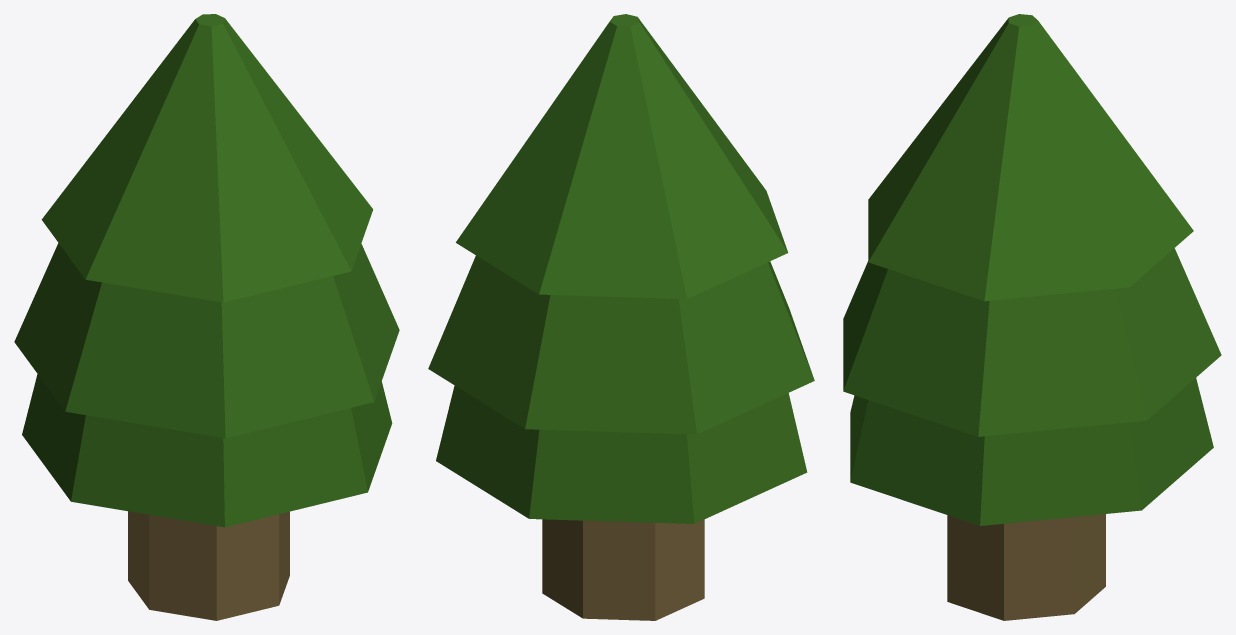
File: tree2.fbx
3 renders of one model, left to right at view 1: azimuth 30°, elevation 25°; view 2: azimuth 150°, elevation 25°; view 3: azimuth 270°, elevation 25°, orthographic.
Parts seen in each view (by area): view 1: Cylinder; view 2: Cylinder; view 3: Cylinder.
Part boxes in pixels (x1=…): Cylinder: x1=14, y1=14, x2=399, y2=620; Cylinder: x1=428, y1=14, x2=814, y2=620; Cylinder: x1=843, y1=14, x2=1221, y2=620.
Size of the model in its own units: 142 by 230 by 139.
